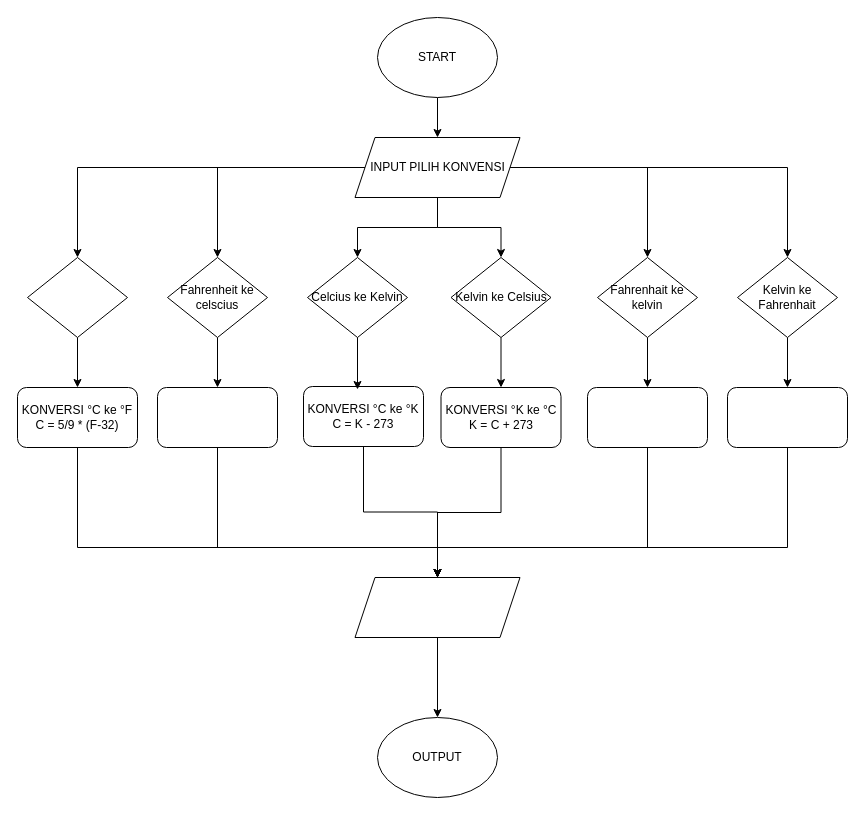
This 865x815 diagram has some shape labels left out. Each missing label, with the centre of its shape:
Celcius ke Fahrenheit: point (77, 297)
KONVERSI °F ke °C F = 9/5 * C+32: point (217, 417)
KONVERSI °F ke °K K = 9/5 * (K-273) + 32: point (647, 417)
KONVERSI °K ke °F K = 5/9 * (F-32) + 273: point (787, 417)
OUTPUT KONVENSI: point (437, 607)
